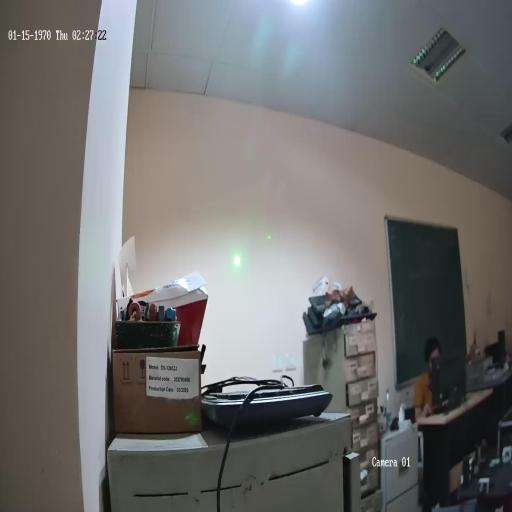laser: (232, 252, 242, 271)
